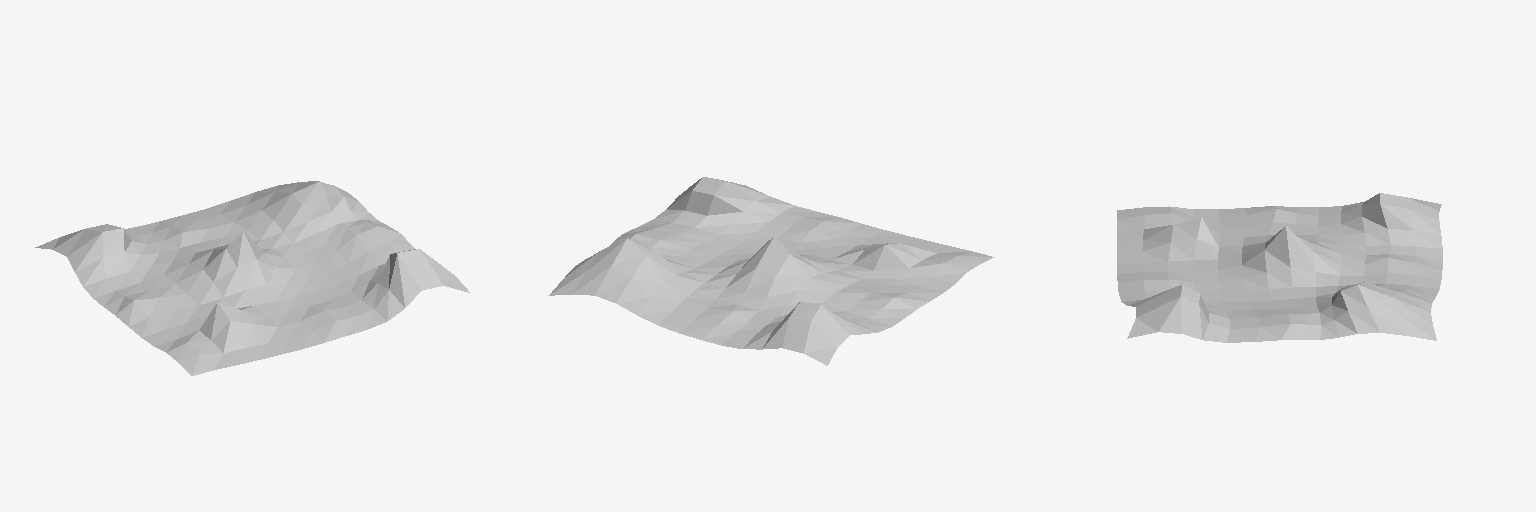
The model's file is map_proto.obj.
The picture shows the model from 3 angles: view 1: azimuth 30°, elevation 25°; view 2: azimuth 150°, elevation 25°; view 3: azimuth 270°, elevation 25°; orthographic projection.
Parts seen in each view (by area): view 1: Plane-col; view 2: Plane-col; view 3: Plane-col.
Boxes of the visible parts, x1=… form: Plane-col: x1=35, y1=181, x2=469, y2=375; Plane-col: x1=549, y1=177, x2=993, y2=365; Plane-col: x1=1117, y1=193, x2=1442, y2=342.
Bounding box in the file's own units: 19.75 × 3.29 × 19.19.